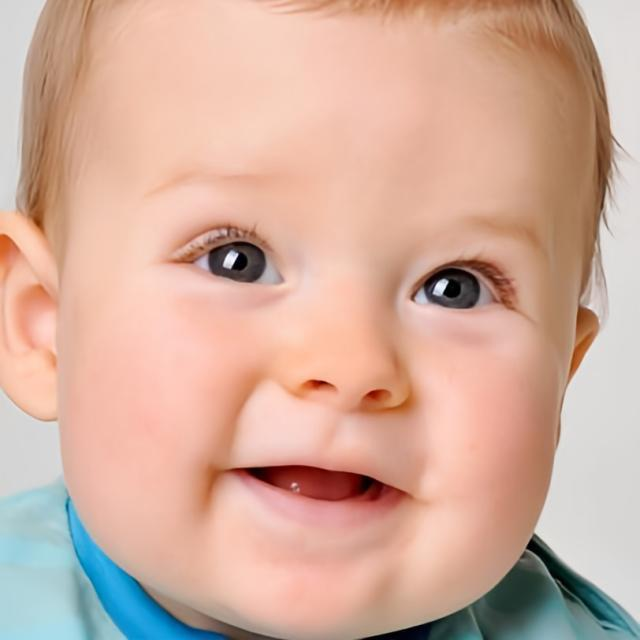happy: (63, 2, 600, 640)
